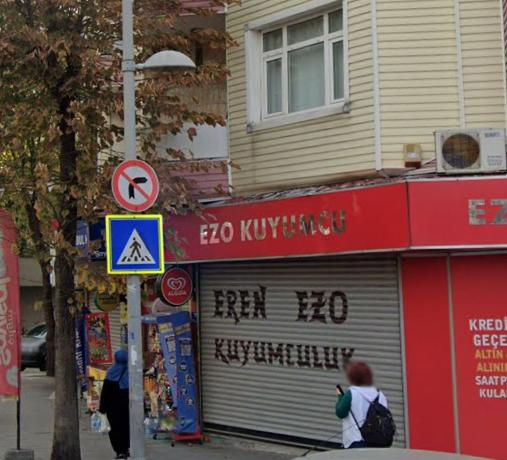rightturnsareforbidden: (114, 161, 156, 212)
